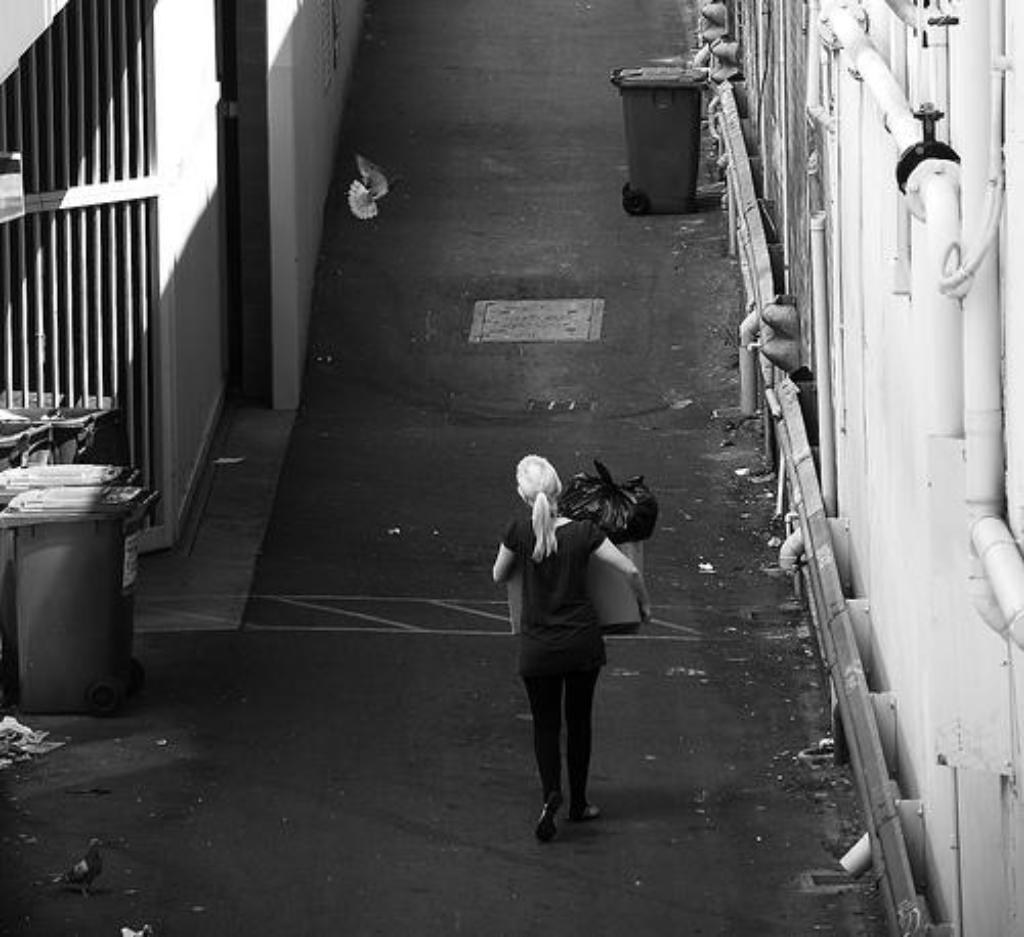dustbin: (617, 59, 719, 227)
